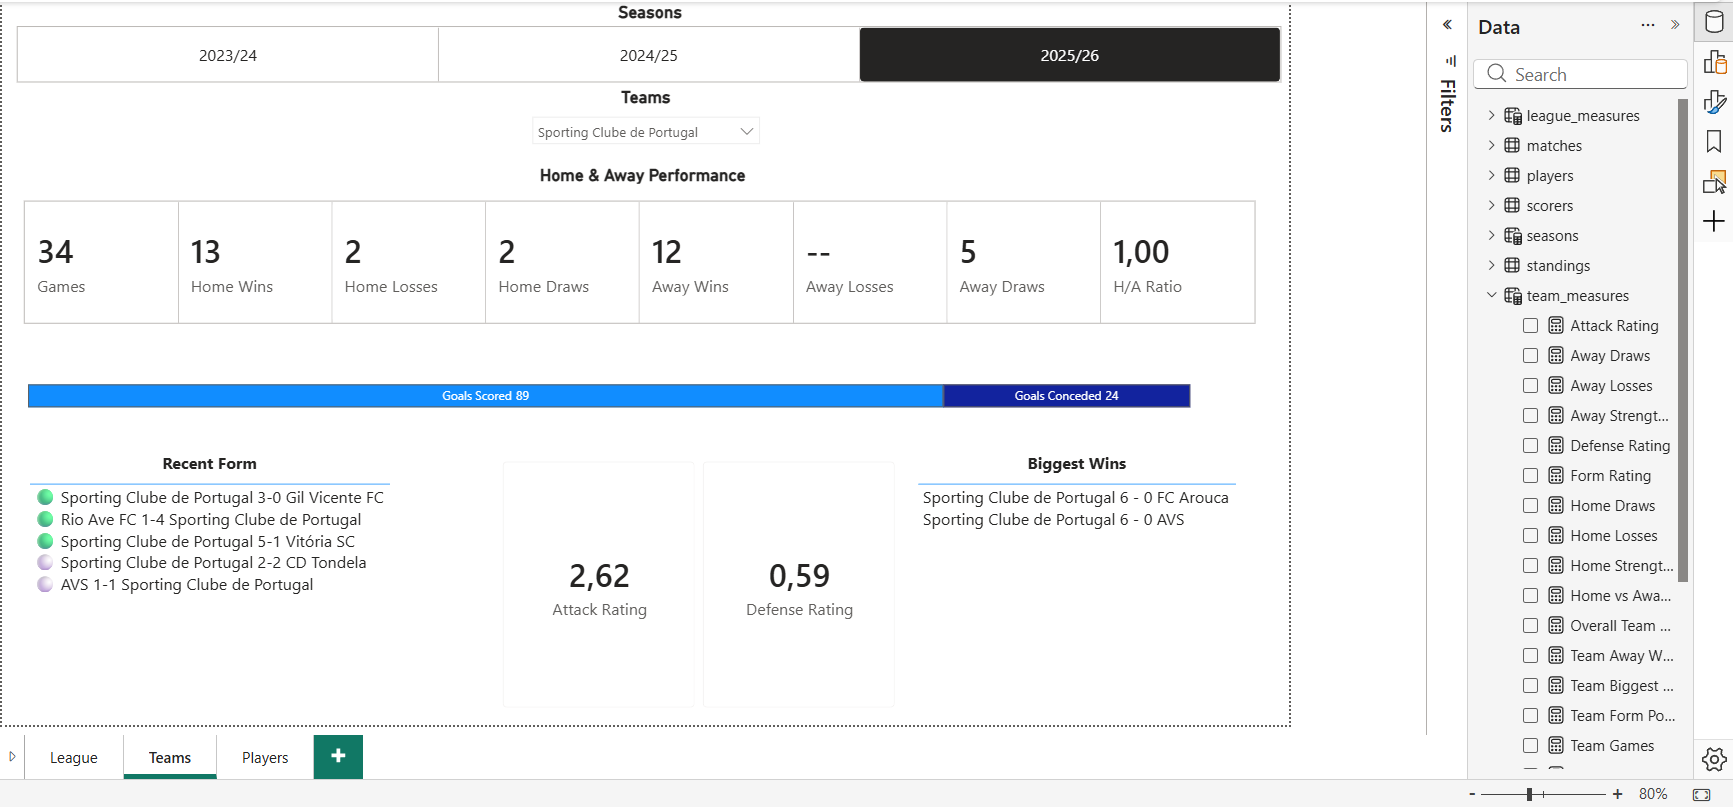

The page's visual inventory and layout, read from the dashboard file:
{"tool":"powerbi","page":{"name":"Teams","canvas":[1280,720],"ordinal":1},"visuals":[{"type":"advancedSlicerVisual","title":"Seasons","fields":{"Values":["seasons.season_label"]},"box":[9.9,0,1270.1,85.8],"z":0},{"type":"slicer","title":"Teams","fields":{"Values":["teams.team_name"]},"box":[518,85.1,246.7,76.5],"z":1000},{"type":"tableEx","title":"Biggest Wins","fields":{"Values":["team_measures.Team Biggest Win"]},"box":[905.6,440.4,353.3,202.8],"z":1003},{"type":"cardVisual","title":"Home & Away Performance","fields":{"Data":["team_measures.Team Games","team_measures.Team Home Wins","team_measures.Home Losses","team_measures.Home Draws","team_measures.Team Away Wins","team_measures.Away Losses","team_measures.Away Draws","team_measures.Home vs Away Ratio"]},"box":[4.8,161.2,1265.3,175.5],"z":1004},{"type":"tableEx","title":"Recent Form","fields":{"Values":["team_measures.Team_last_5_results_text"]},"box":[20.7,440.4,461.1,256.9],"z":1005},{"type":"barChart","fields":{"Y":["team_measures.Team Goals Scored","team_measures.Team Goals Conceded"]},"box":[20.7,336.7,1238.2,103.7],"z":1006},{"type":"cardVisual","fields":{"Data":["team_measures.Attack Rating","team_measures.Defense Rating"]},"box":[481.9,440.4,424.4,279.2],"z":1007}]}

Visuals, with their boxes on the page's 1280x720 design canvas (x1, y1, x2, y2). These are canvas units, not pixel positions in the 1733x807 screenshot, which may show the page scaled, cropped or inside an application window:
"Seasons" advancedSlicerVisual: bbox=(10, 0, 1280, 86)
"Teams" slicer: bbox=(518, 85, 765, 162)
"Biggest Wins" tableEx: bbox=(906, 440, 1259, 643)
"Home & Away Performance" cardVisual: bbox=(5, 161, 1270, 337)
"Recent Form" tableEx: bbox=(21, 440, 482, 697)
barChart - team_measures.Team Goals Scored x team_measures.Team Goals Conceded: bbox=(21, 337, 1259, 440)
cardVisual - team_measures.Attack Rating x team_measures.Defense Rating: bbox=(482, 440, 906, 720)
